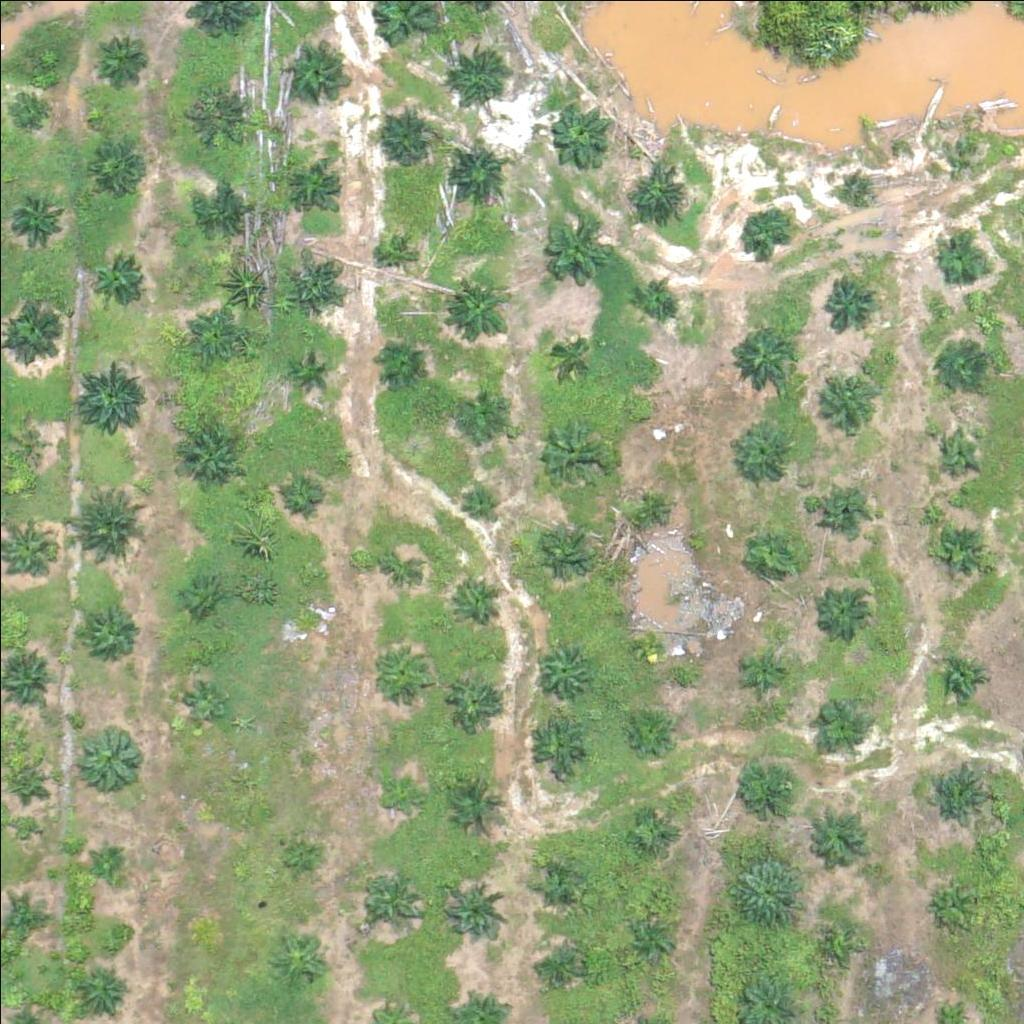Kelapa_Sawit: (728, 750, 803, 826), (533, 424, 608, 500), (728, 854, 803, 930), (74, 482, 149, 557), (72, 368, 147, 443), (285, 258, 348, 321), (548, 217, 611, 280), (80, 730, 143, 793), (811, 808, 874, 871), (269, 926, 332, 989), (526, 712, 589, 775), (926, 762, 989, 825), (4, 296, 67, 359), (451, 40, 514, 103), (552, 108, 615, 171), (284, 39, 347, 102), (450, 276, 512, 339), (733, 328, 795, 391), (182, 420, 244, 483), (80, 603, 142, 666), (815, 365, 877, 428), (535, 520, 597, 583), (447, 768, 509, 831), (360, 867, 422, 930), (444, 884, 506, 947), (736, 418, 798, 481), (929, 523, 991, 586), (186, 80, 248, 143), (630, 163, 692, 226), (530, 634, 592, 696), (445, 139, 507, 201), (378, 111, 440, 173), (192, 305, 242, 356), (97, 254, 147, 305), (81, 962, 131, 1013), (938, 239, 988, 290), (934, 338, 984, 389), (937, 650, 987, 701), (4, 892, 54, 943), (93, 141, 143, 192), (197, 184, 247, 234), (823, 274, 873, 324), (742, 207, 792, 257), (816, 490, 866, 540), (813, 696, 863, 746), (817, 586, 867, 636), (627, 713, 677, 763), (628, 809, 678, 859), (446, 678, 496, 728), (376, 646, 426, 696), (463, 383, 513, 433), (750, 530, 800, 580), (98, 31, 148, 81), (293, 161, 343, 211), (377, 336, 427, 386), (546, 327, 596, 377), (631, 270, 681, 320), (623, 487, 673, 537), (3, 750, 53, 800), (534, 943, 584, 993), (532, 859, 582, 909), (626, 923, 676, 973), (451, 574, 501, 624), (747, 652, 785, 690), (373, 227, 411, 265), (460, 484, 498, 522), (383, 773, 421, 811), (285, 590, 323, 628), (379, 548, 417, 586), (181, 574, 218, 612), (930, 879, 967, 917), (6, 425, 43, 463), (295, 352, 332, 390), (280, 477, 318, 514), (941, 435, 978, 473), (89, 842, 126, 880), (281, 837, 318, 874), (186, 687, 223, 724), (820, 927, 845, 953), (842, 179, 867, 204), (639, 637, 664, 662), (632, 402, 657, 427), (937, 145, 962, 170)
